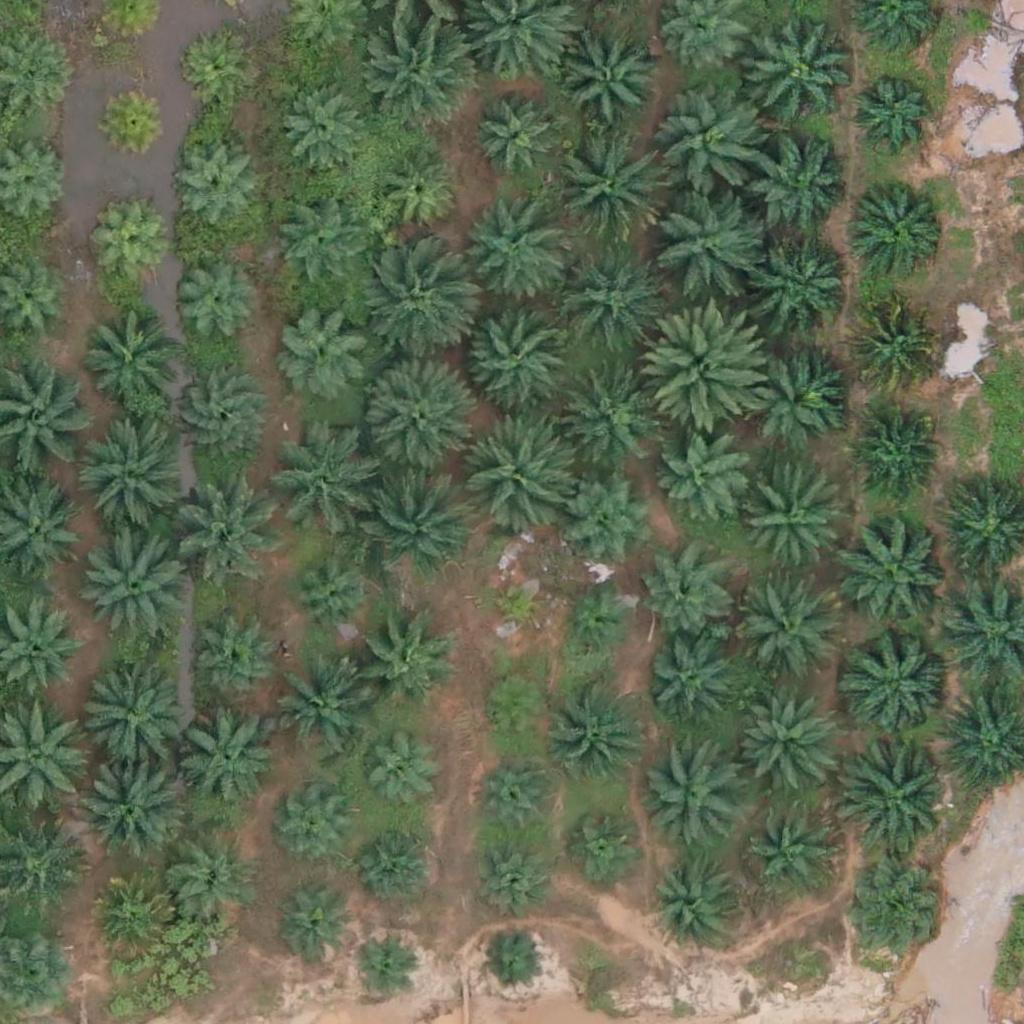Kelapa_Sawit: (646, 305, 771, 431), (648, 183, 761, 297), (72, 526, 185, 640), (838, 515, 951, 628), (842, 626, 955, 739), (550, 131, 663, 244), (554, 243, 667, 356), (461, 298, 574, 411), (358, 359, 471, 472), (77, 753, 190, 866), (69, 657, 182, 770), (742, 14, 855, 127), (365, 16, 478, 129), (655, 89, 768, 202), (358, 461, 470, 575), (75, 422, 187, 536), (841, 738, 953, 851), (454, 199, 566, 312), (459, 416, 571, 529), (356, 250, 468, 363), (169, 467, 281, 580), (848, 176, 948, 277), (844, 865, 944, 966), (755, 235, 855, 336), (741, 472, 841, 573), (736, 584, 836, 685), (732, 692, 832, 793), (558, 364, 658, 465), (560, 465, 660, 566), (352, 613, 452, 714), (266, 662, 366, 763), (266, 434, 366, 535), (176, 710, 276, 811), (79, 310, 179, 411), (561, 28, 661, 129), (551, 679, 651, 780), (750, 142, 850, 242), (740, 342, 840, 442), (643, 744, 743, 844), (273, 300, 373, 400), (171, 368, 271, 468), (847, 300, 935, 388), (640, 552, 728, 640), (465, 835, 553, 923), (84, 873, 172, 961), (373, 149, 461, 237), (287, 551, 375, 639), (168, 142, 256, 230), (846, 69, 934, 157), (473, 94, 561, 182), (643, 639, 730, 728), (273, 199, 360, 288), (850, 408, 937, 496), (750, 810, 837, 898), (652, 859, 739, 947), (658, 432, 745, 520), (475, 754, 562, 842), (170, 258, 257, 346), (192, 620, 279, 708), (169, 840, 256, 928), (280, 82, 367, 170), (175, 28, 250, 104), (358, 737, 433, 813), (360, 825, 435, 901), (559, 585, 634, 661), (478, 672, 553, 748), (92, 208, 167, 284), (97, 81, 172, 157), (566, 807, 641, 882), (278, 792, 353, 867), (276, 892, 351, 967), (349, 933, 412, 996), (482, 929, 544, 992), (485, 573, 547, 636)
